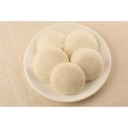idly: (33, 49, 70, 80), (71, 48, 104, 78), (51, 64, 85, 93), (65, 30, 97, 54), (38, 31, 67, 56)
